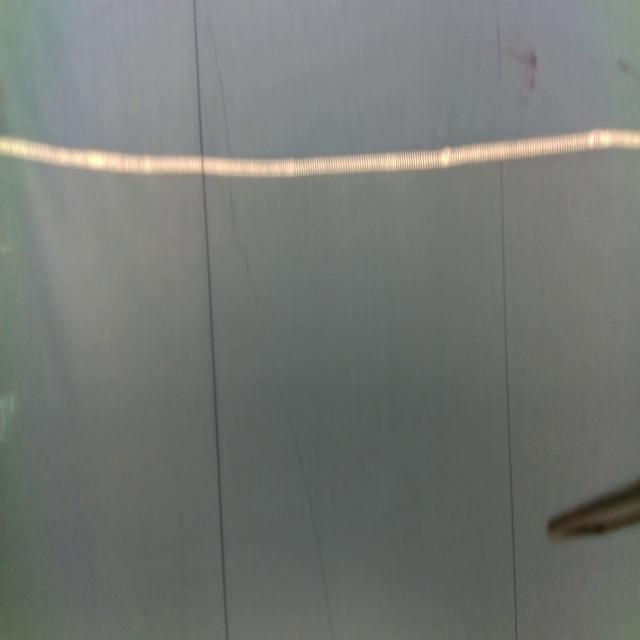crease: (225, 173, 334, 640), (193, 0, 228, 640), (499, 158, 519, 640)
